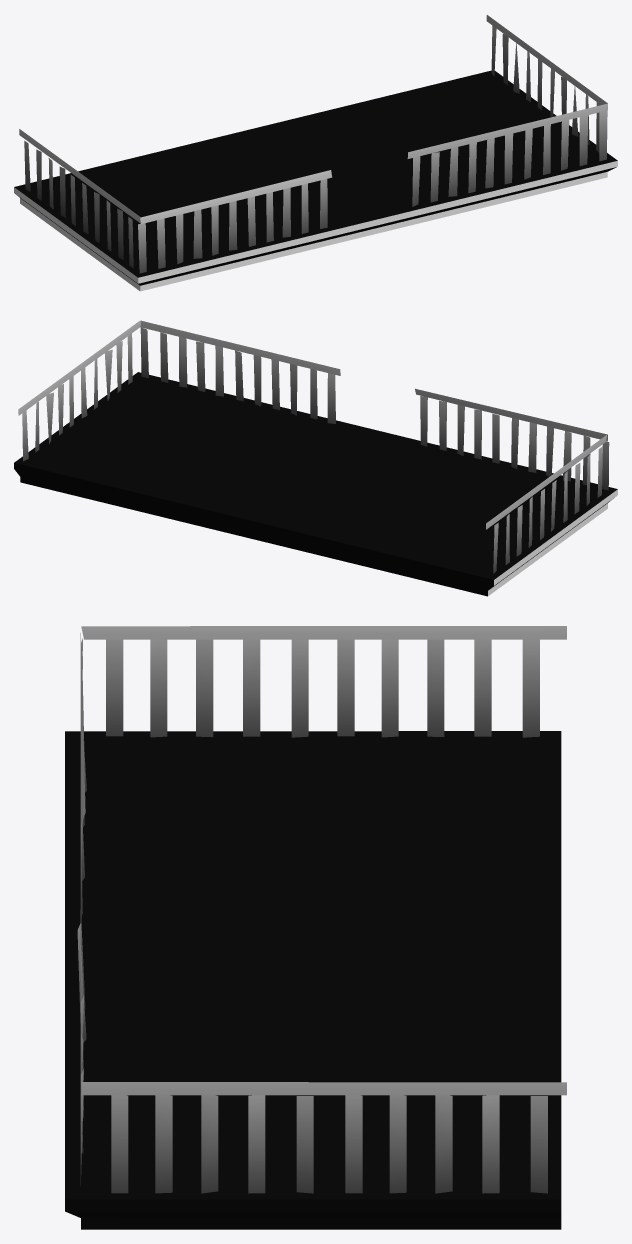
The model's file is Porch1.glb.
3 renders of one model, top to bottom at view 1: azimuth 30°, elevation 25°; view 2: azimuth 150°, elevation 25°; view 3: azimuth 270°, elevation 25°, orthographic. The views are drawn at different scales.
Parts seen in each view (by area): view 1: Porch1; view 2: Porch1; view 3: Porch1.
Part boxes in pixels (x1,y1,x2,y2): Porch1: (14, 15, 617, 291); Porch1: (14, 320, 617, 596); Porch1: (65, 626, 566, 1229).
Size of what is drawn, in the model's own units: 12.05 by 1.77 by 5.46.
Materials: 1 (1 with a texture image).
